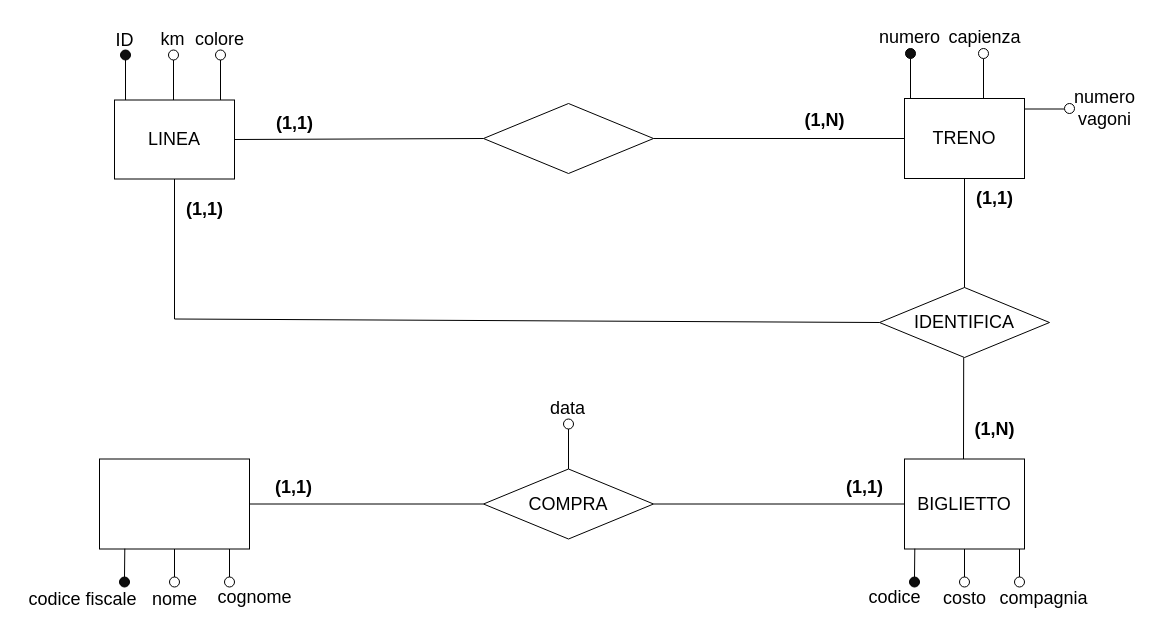
The diagram is 1161 pixels wide and 636 high, and some of its shapes have lost their labels. Here are the shapes that lost their labels. From the top down, the box of each, then its label:
(482, 102, 654, 174): PERCORRE
(98, 458, 250, 549): PASSEGGERO
